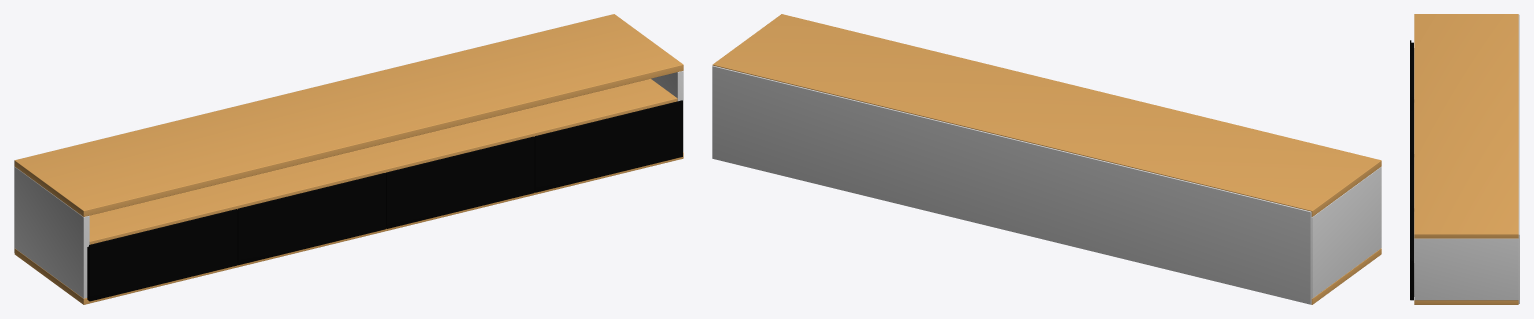
Rendered from LACI TV.fbx.
The picture shows the model from 3 angles, left to right: view 1: azimuth 30°, elevation 25°; view 2: azimuth 150°, elevation 25°; view 3: azimuth 270°, elevation 25°; orthographic projection. The views are drawn at different scales.
Parts seen in each view (by area): view 1: top desk, cabinet, drawer_LL, drawer's, drawer_RR, drawer_L, side desk_l, top desk.001, side desk_l.001; view 2: backboard, top desk, side desk_l, top desk.001; view 3: top desk, side desk_l.001, backboard, top desk.001, drawer_RR, drawer's, drawer_LL, drawer_L.
Part boxes in pixels (box(x1,y1,x2,y2)): top desk: box(14, 14, 683, 216); cabinet: box(89, 78, 677, 244); drawer_LL: box(87, 209, 237, 301); drawer's: box(386, 136, 534, 228); drawer_RR: box(534, 100, 682, 192); drawer_L: box(237, 173, 385, 265); side desk_l: box(14, 167, 89, 298); top desk.001: box(14, 152, 683, 304); side desk_l.001: box(651, 71, 683, 152); backboard: box(712, 65, 1311, 304); top desk: box(712, 14, 1381, 216); side desk_l: box(1311, 166, 1381, 298); top desk.001: box(1311, 248, 1381, 304); top desk: box(1414, 14, 1518, 238); side desk_l.001: box(1414, 238, 1518, 300); backboard: box(1518, 14, 1519, 303); top desk.001: box(1414, 300, 1518, 304); drawer_RR: box(1410, 204, 1413, 300); drawer's: box(1410, 149, 1413, 206); drawer_LL: box(1410, 40, 1413, 97); drawer_L: box(1410, 95, 1413, 151).
Bounding box in the file's own units: 200 × 31 × 42.12.
